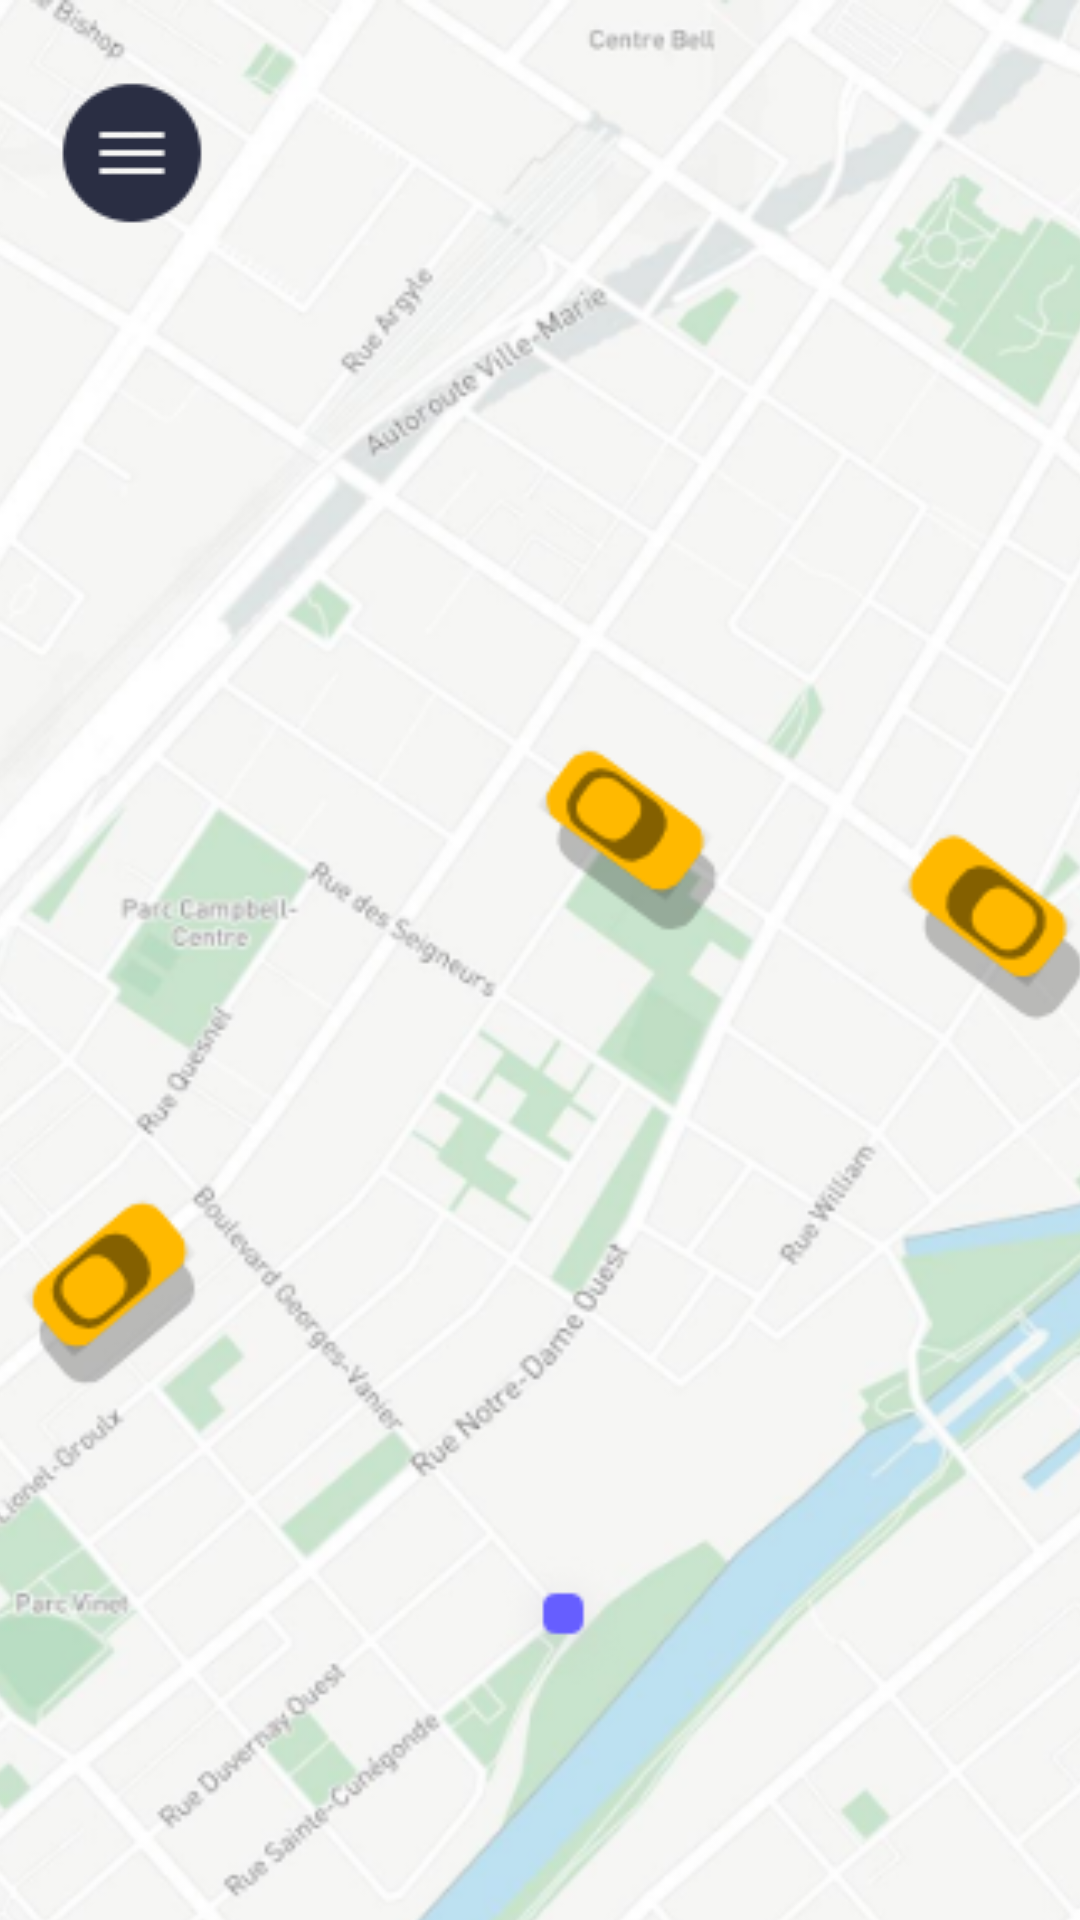

Named icons in this screenshot (1080 x 1920) and their bounding boxes, {"left": x1, "top": y1, "right": x2, "bottom": y2}:
menu: {"left": 62, "top": 83, "right": 202, "bottom": 223}
